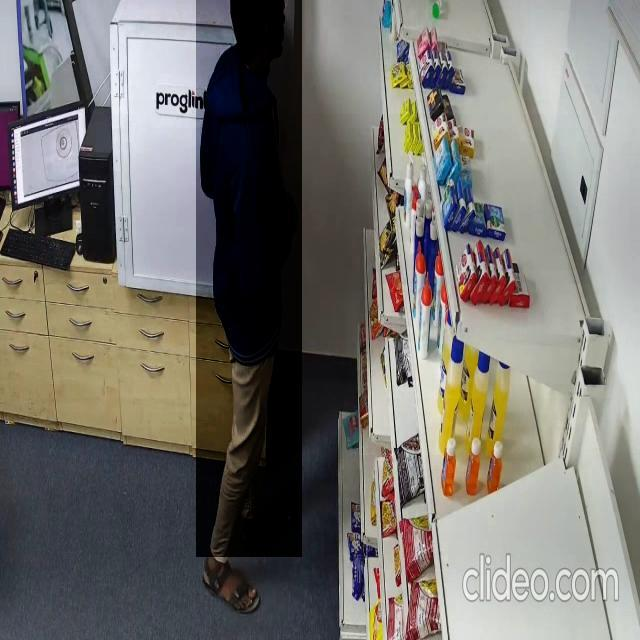Shoplifting: (196, 0, 302, 557)
